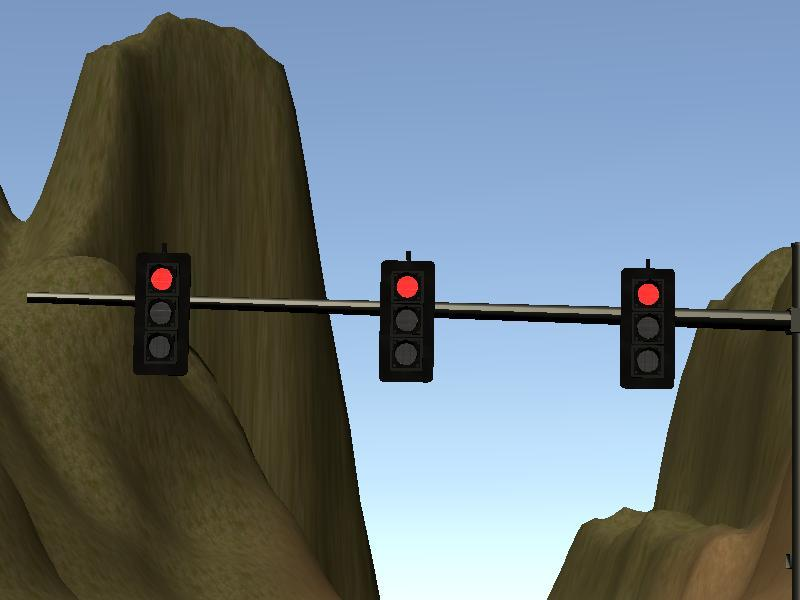Red: (620, 268, 674, 388), (379, 261, 433, 381), (134, 254, 188, 374)
